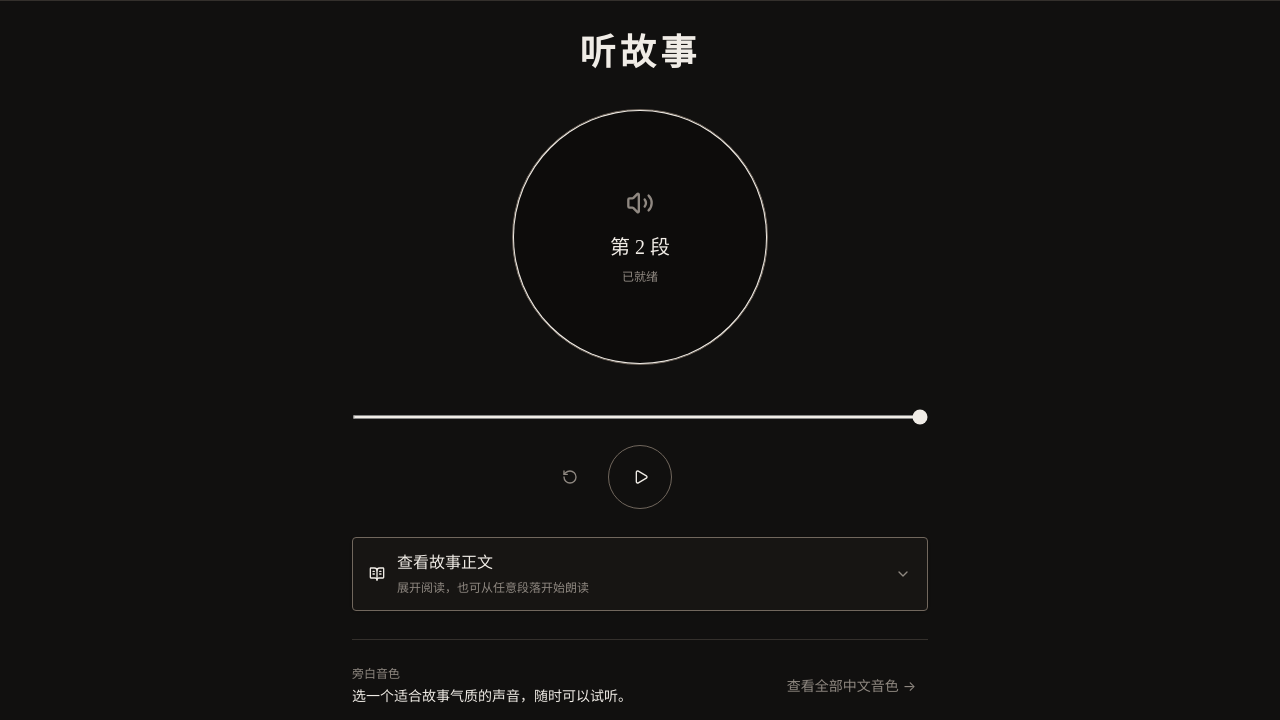
Test case: StoryListeningExperience › replays from the first source after the final independent scene ends
The width and height of the screenshot is (1280, 720).
Step 1. Click the button named "播放朗读" → (640, 477), box [608, 445, 672, 509]
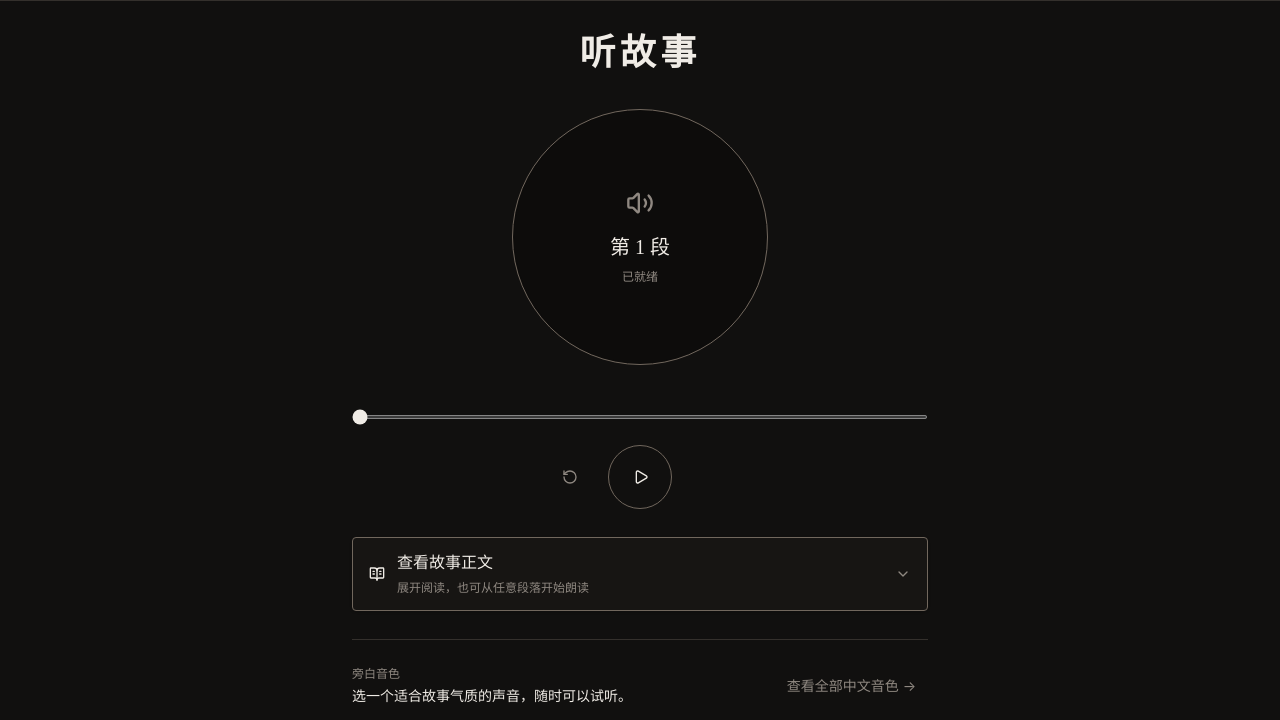
Expected: the text "第 1 段" is shown, [610, 233, 670, 261]
